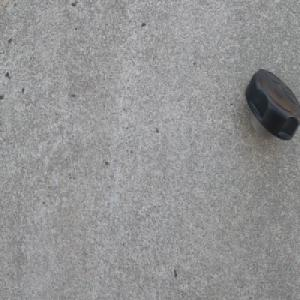FuelCap: (244, 68, 300, 144)
